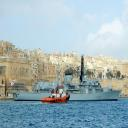Fragata: (13, 52, 123, 103)
